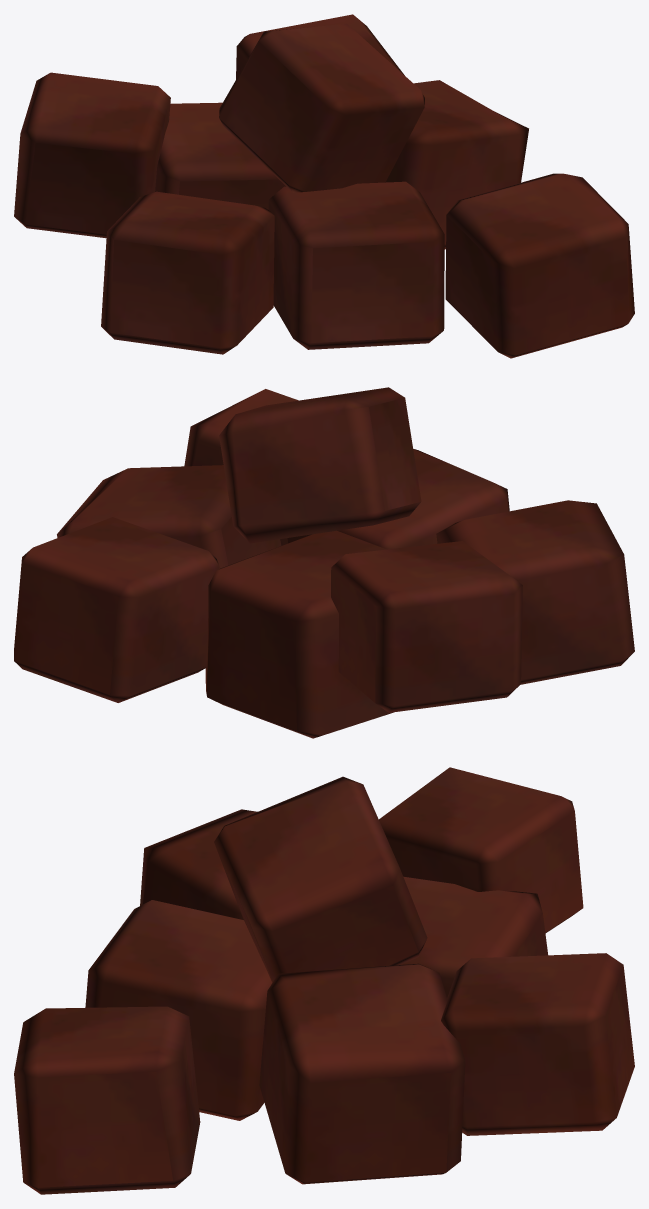
Rendered from Meat_Fried.fbx.
3 renders of one model, top to bottom at view 1: azimuth 30°, elevation 25°; view 2: azimuth 150°, elevation 25°; view 3: azimuth 270°, elevation 25°, orthographic. The views are drawn at different scales.
Parts seen in each view (by area): view 1: plated_meat_02; view 2: plated_meat_02; view 3: plated_meat_02.
Part boxes in pixels (x1,y1,x2,y2): plated_meat_02: (14,14,634,358); plated_meat_02: (14,387,634,738); plated_meat_02: (14,767,634,1194).
Size of the model in its own units: 57.74 by 31.77 by 59.4.
